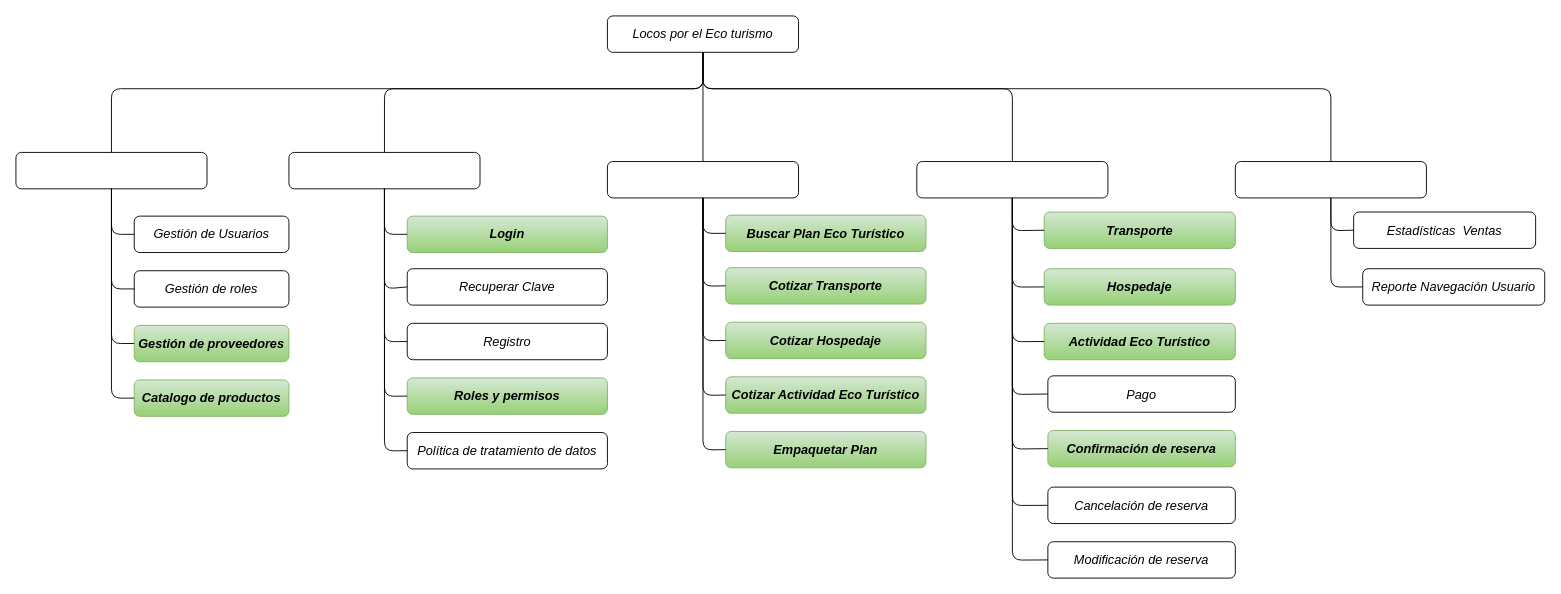
Some shapes in this 1561 by 594 pixel diagram are drawn without their labels. Each missing label, with the centre of its shape:
"Administración del sistema" goes at [111,170].
"Autenticación" goes at [384,170].
"Consultas y reportes" goes at [1330,179].
"Cotización" goes at [703,179].
"Reserva" goes at [1012,179].
